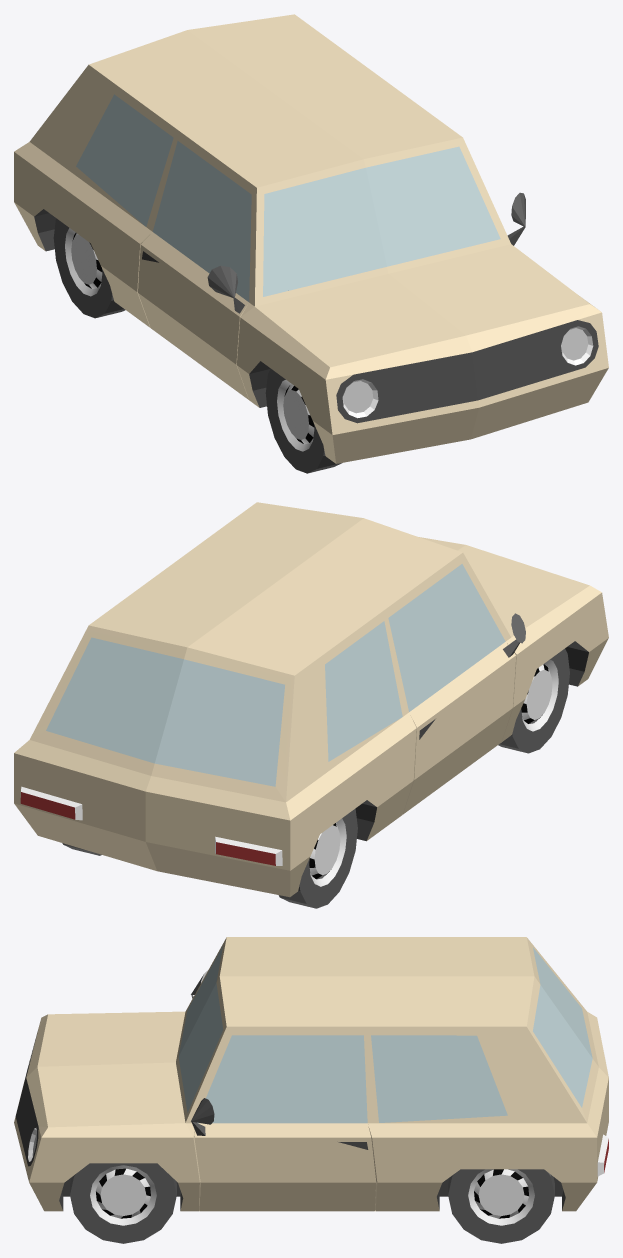
Rendered from carro1.obj.
3 views of the same model, one above another, from view 1: azimuth 30°, elevation 25°; view 2: azimuth 150°, elevation 25°; view 3: azimuth 270°, elevation 25° (orthographic). The views are drawn at different scales.
Parts seen in each view (by area): view 1: Car_Hatch_C_Body; view 2: Car_Hatch_C_Body; view 3: Car_Hatch_C_Body.
Part boxes in pixels (x1,y1,x2,y2): Car_Hatch_C_Body: (14, 14, 608, 473); Car_Hatch_C_Body: (14, 502, 608, 908); Car_Hatch_C_Body: (14, 937, 608, 1243).
Bounding box in the file's own units: 3.3 × 2.38 × 5.98.
Materials: 1 (1 with a texture image).
